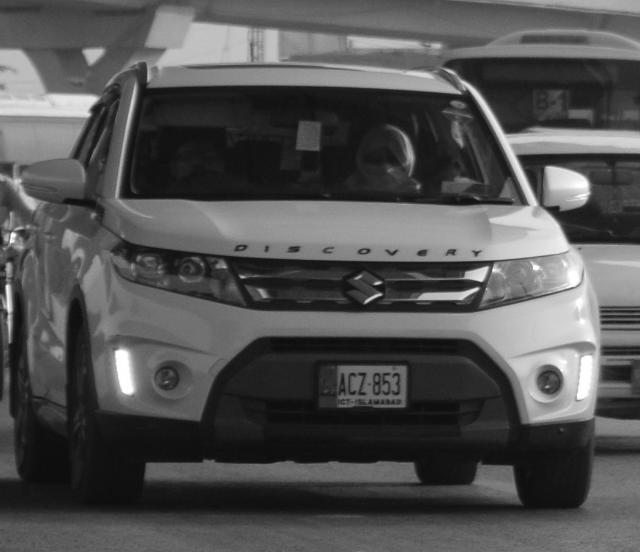Number: (132, 0, 196, 26)
